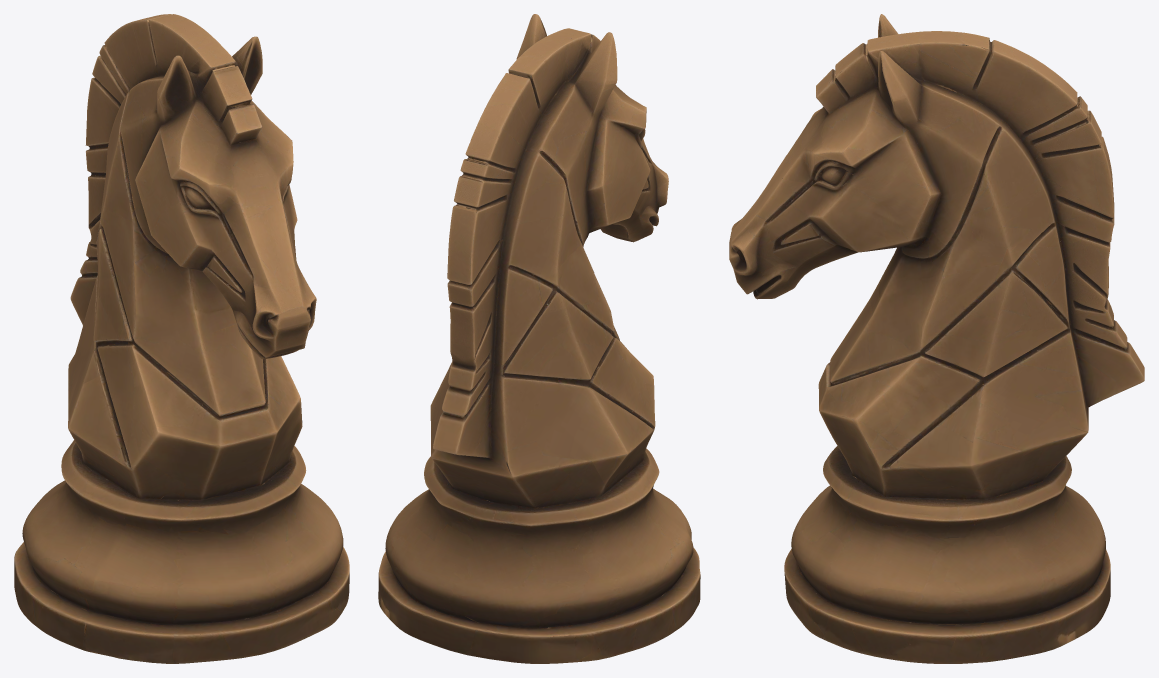
The model's file is fig-modell.glb.
3 views of the same model, side by side, from view 1: azimuth 30°, elevation 25°; view 2: azimuth 150°, elevation 25°; view 3: azimuth 270°, elevation 25° (orthographic). The views are drawn at different scales.
Parts seen in each view (by area): view 1: Mesh_0; view 2: Mesh_0; view 3: Mesh_0.
Boxes of the visible parts, <box> form: Mesh_0: <box>14,14,349,663</box>; Mesh_0: <box>378,14,700,663</box>; Mesh_0: <box>729,14,1144,663</box>.
Size of the model in its own units: 1 by 1.9 by 1.27.
Materials: 1 (1 with a texture image).
